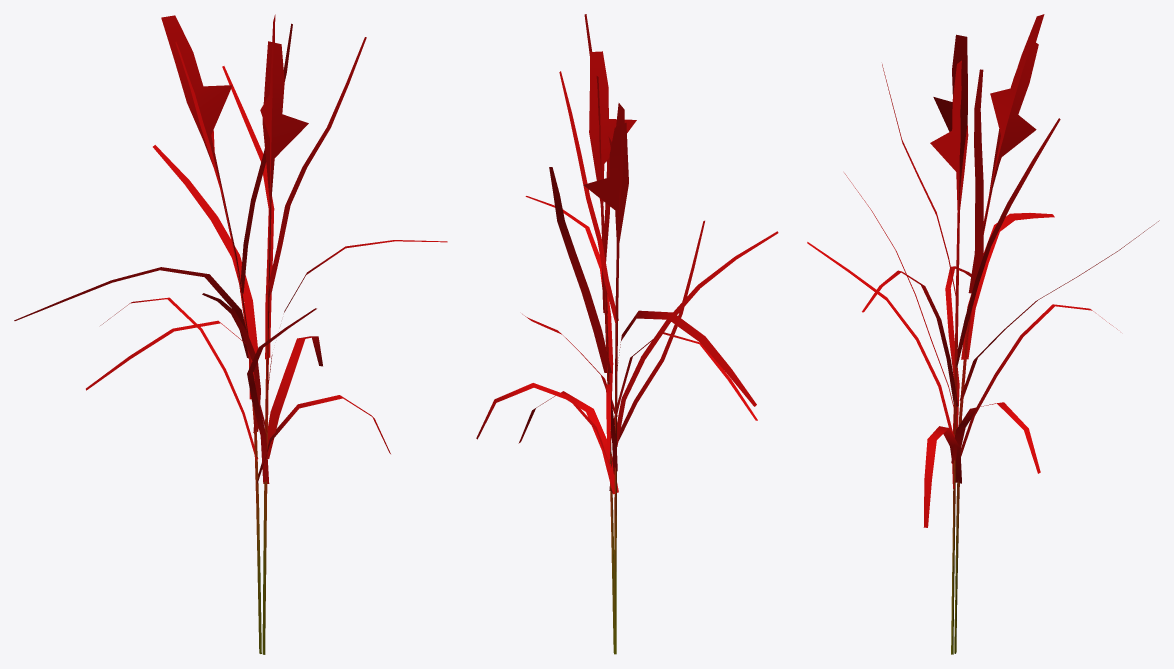
File: Var14_LOD1.fbx
3 renders of one model, left to right at view 1: azimuth 30°, elevation 25°; view 2: azimuth 150°, elevation 25°; view 3: azimuth 270°, elevation 25°, orthographic. The views are drawn at different scales.
Parts seen in each view (by area): view 1: _c3li_Var14_LOD1; view 2: _c3li_Var14_LOD1; view 3: _c3li_Var14_LOD1.
Boxes of the visible parts, box(x1,y1,x2,y2) form: _c3li_Var14_LOD1: box(14, 14, 447, 654); _c3li_Var14_LOD1: box(476, 14, 778, 654); _c3li_Var14_LOD1: box(807, 14, 1159, 654).
Size of the model in its own units: 17.01 by 30.31 by 15.45.
